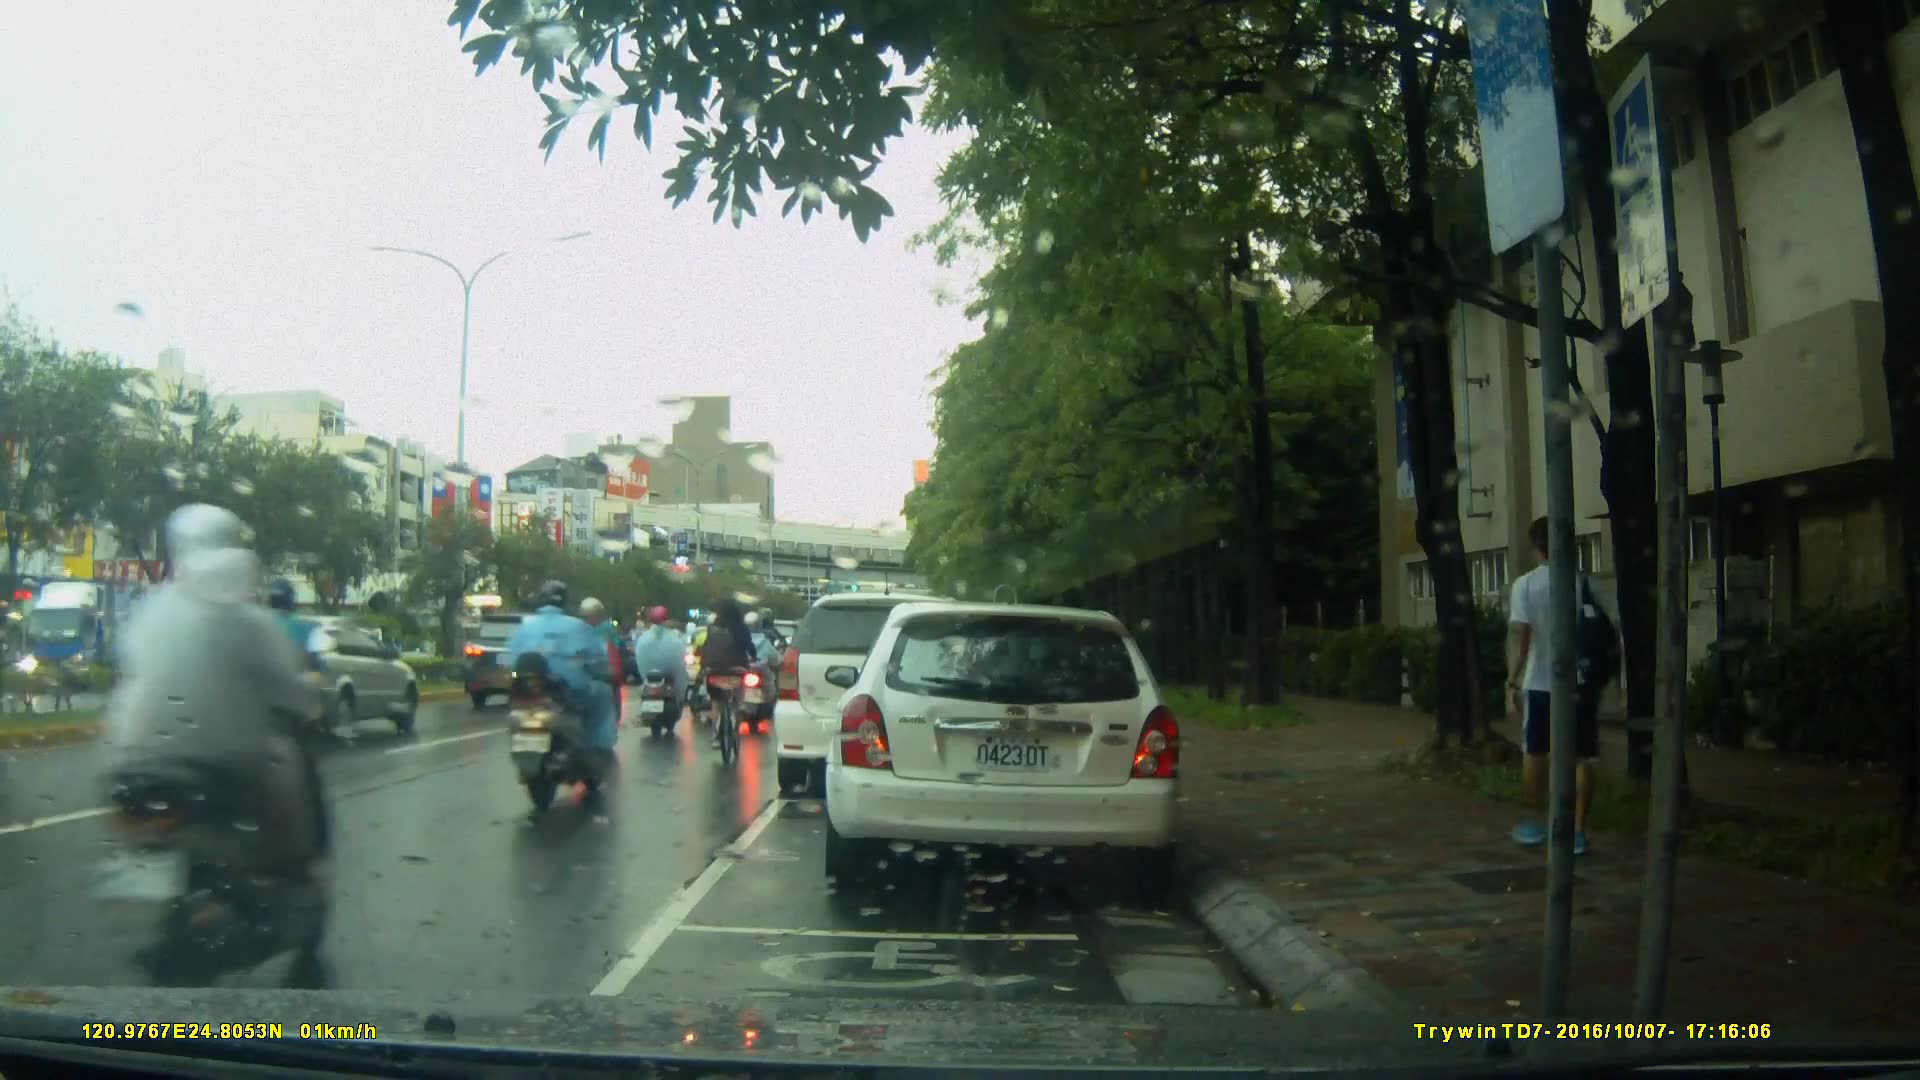pedestrian: (1505, 502, 1624, 895)
rider: (78, 502, 349, 1001), (504, 579, 622, 814), (214, 573, 315, 816), (694, 597, 754, 781), (634, 602, 692, 735), (731, 615, 781, 729), (687, 608, 730, 711)
vehicle: (822, 604, 1188, 882), (774, 595, 995, 802), (188, 611, 425, 744), (20, 576, 161, 697), (458, 611, 602, 709), (144, 630, 241, 686)
